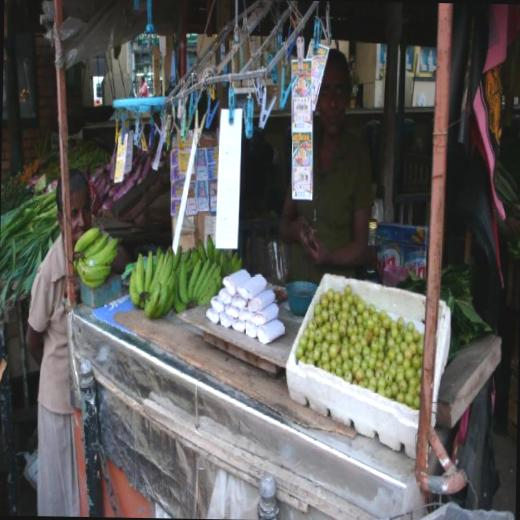Banana: (129, 232, 241, 324), (72, 222, 120, 286)
